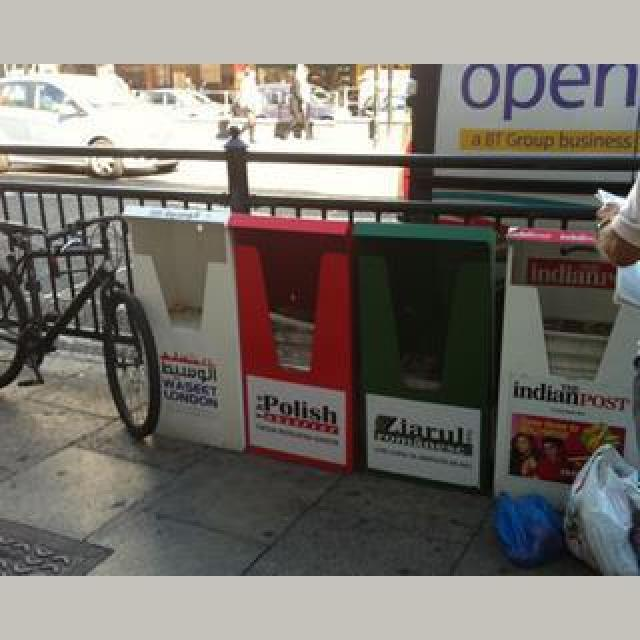Bus-Bike: (0, 74, 218, 178)
Person: (1, 212, 163, 442)
